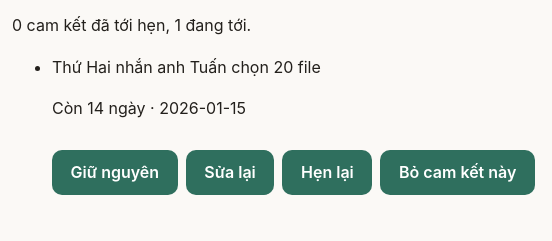
Test: moving it › offers one form at a time, not both at once
Click the button with test id "reschedule-ci-1": (327, 172) [282,150,372,195]
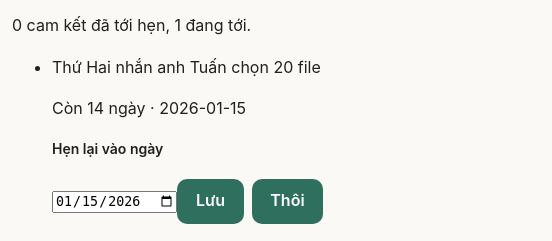
expect the date field labelled "Hẹn lại vào ngày" is shown: met, box [52,191,177,212]
